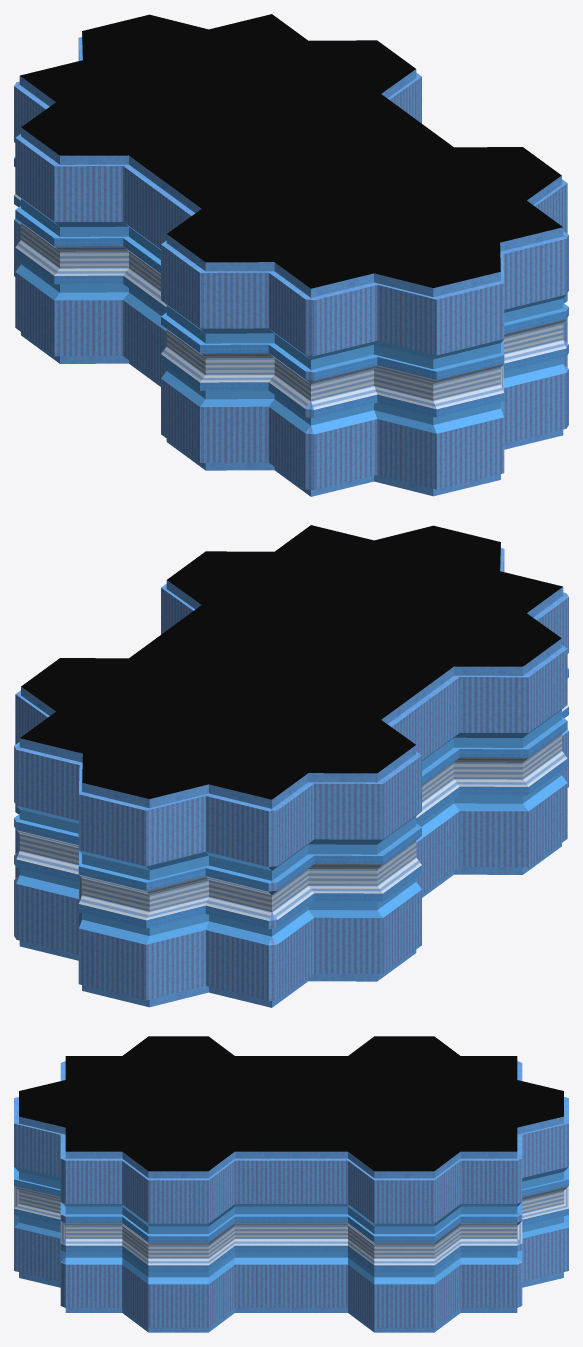
File: SciFi05.dae
3 renders of one model, top to bottom at view 1: azimuth 30°, elevation 25°; view 2: azimuth 150°, elevation 25°; view 3: azimuth 270°, elevation 25°, orthographic. The views are drawn at different scales.
Parts seen in each view (by area): view 1: group_2, group_1 (×8), group_0 (×7), group_7; view 2: group_2, group_1 (×8), group_0 (×7), group_4; view 3: group_2, group_1 (×7), group_0 (×7).
Part boxes in pixels (x1,y1,x2,y2): group_2: (20,14,562,288); group_1 (×8): (14,32,568,392); group_0 (×7): (14,194,566,496); group_7: (305,426,314,490); group_2: (20,525,562,799); group_1 (×8): (14,543,568,903); group_0 (×7): (16,705,568,1007); group_4: (268,937,277,1001); group_2: (19,1036,563,1171); group_1 (×7): (14,1063,568,1251); group_0 (×7): (14,1186,568,1332).
Bounding box in the file's own units: 399 × 673 × 216.
